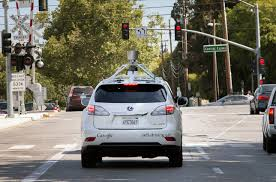car: (81, 76, 184, 168), (262, 86, 276, 150), (249, 83, 276, 115), (68, 85, 95, 111)
